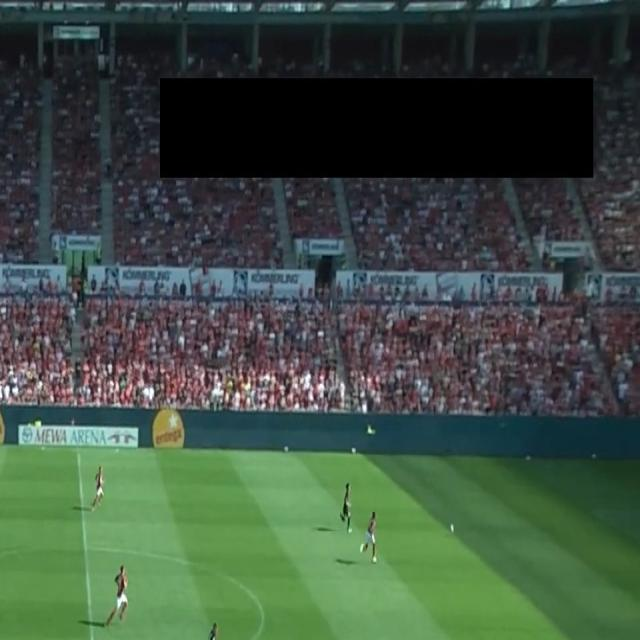ball: (449, 522, 455, 534)
